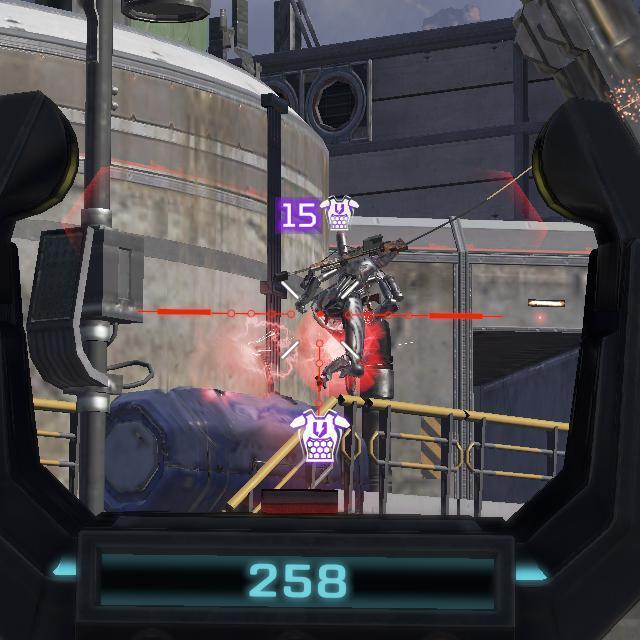avatar: (293, 235, 410, 391)
object: (293, 307, 388, 398)
